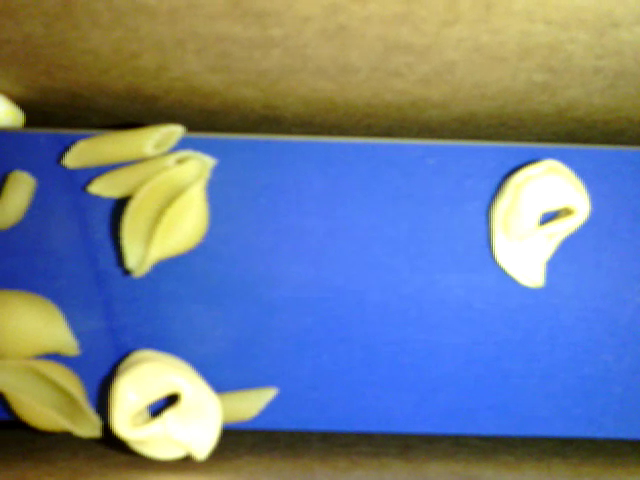elbow: (1, 170, 37, 229)
penne: (85, 149, 218, 198), (60, 124, 185, 169), (214, 385, 279, 421)
shell: (118, 155, 212, 278), (1, 359, 104, 439), (1, 289, 82, 362)
tortellini: (487, 158, 591, 287), (109, 347, 222, 462)
